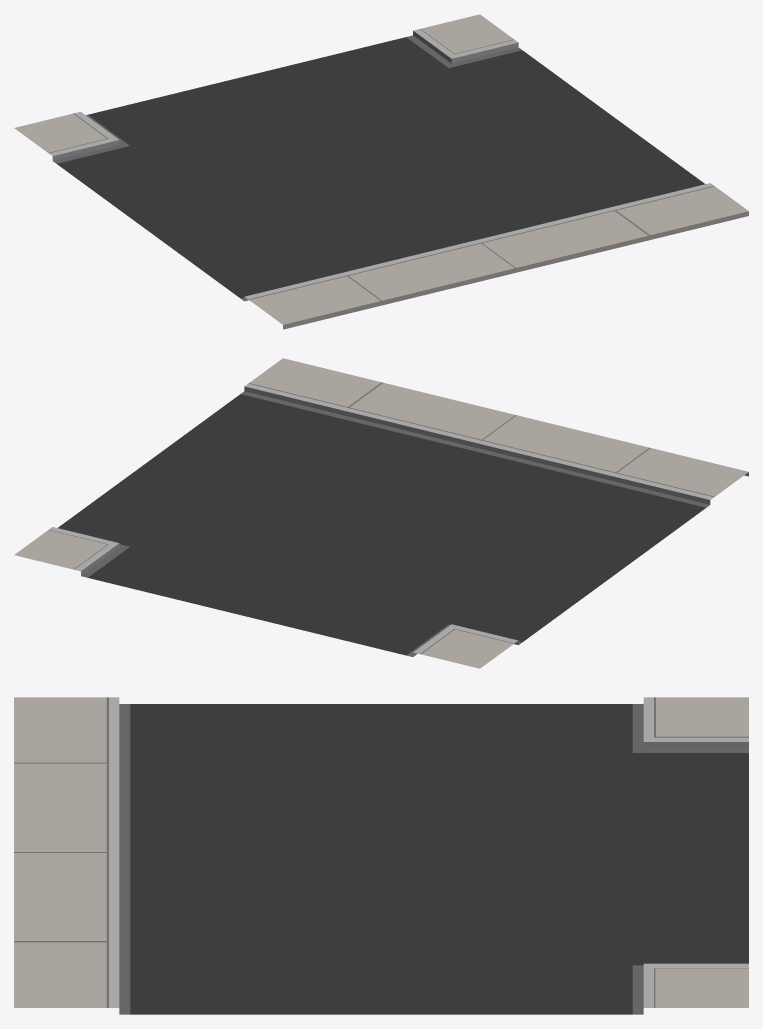
Rendered from SA_Env_Road_T_01.fbx.
3 views of the same model, one above another, from view 1: azimuth 30°, elevation 25°; view 2: azimuth 150°, elevation 25°; view 3: azimuth 270°, elevation 25° (orthographic). The views are drawn at different scales.
Visible parts, largest first — view 1: SA_Env_Road_T_01; view 2: SA_Env_Road_T_01; view 3: SA_Env_Road_T_01.
Part boxes in pixels (<box>): SA_Env_Road_T_01: <box>14,14,748,329</box>; SA_Env_Road_T_01: <box>14,358,748,668</box>; SA_Env_Road_T_01: <box>14,697,748,1014</box>.
Size of the model in its own units: 20 by 0.1948 by 20.
1 material, 1 textured.
